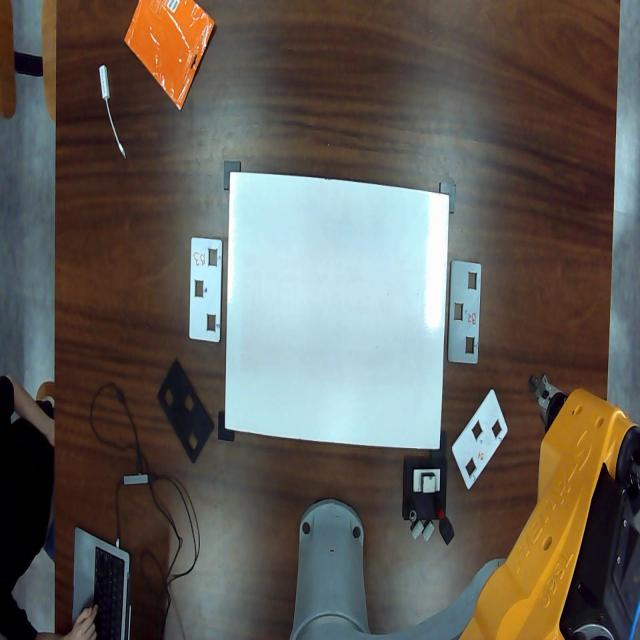table: (224, 171, 451, 449)
